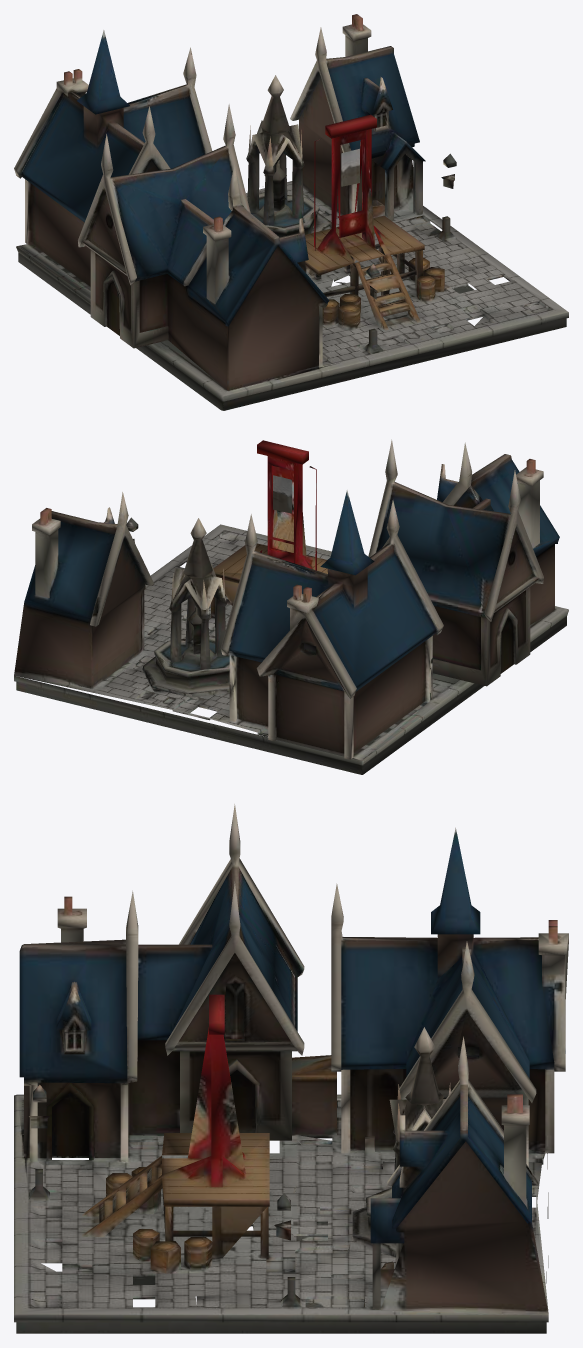
The model's file is square.glb.
The picture shows the model from 3 angles, top to bottom: view 1: azimuth 30°, elevation 25°; view 2: azimuth 150°, elevation 25°; view 3: azimuth 270°, elevation 25°; orthographic projection. The views are drawn at different scales.
Parts seen in each view (by area): view 1: tripo_node_20618ef8-2900-4b3e-ab6b-ad488; view 2: tripo_node_20618ef8-2900-4b3e-ab6b-ad488; view 3: tripo_node_20618ef8-2900-4b3e-ab6b-ad488.
Part boxes in pixels (<box>): tripo_node_20618ef8-2900-4b3e-ab6b-ad488: <box>14,14,568,410</box>; tripo_node_20618ef8-2900-4b3e-ab6b-ad488: <box>14,439,568,774</box>; tripo_node_20618ef8-2900-4b3e-ab6b-ad488: <box>14,804,568,1333</box>.
Size of the model in its own units: 30.51 by 20 by 29.55.
1 material, 1 textured.
